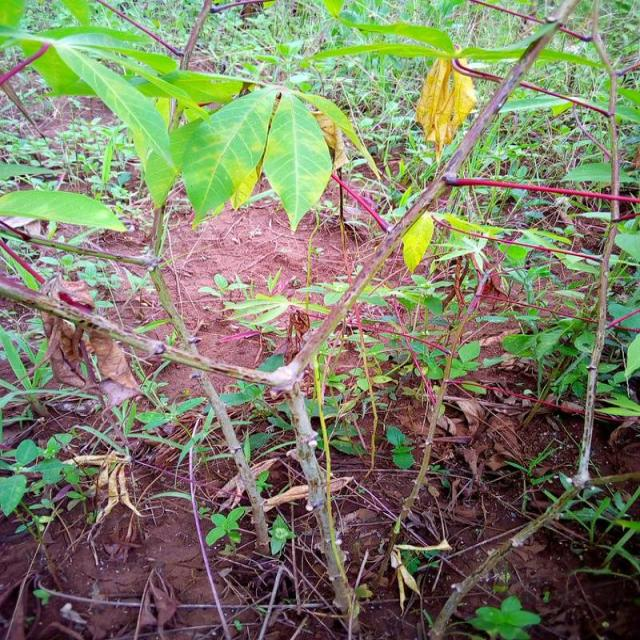cassava leaf: (180, 84, 278, 230), (262, 88, 332, 232), (0, 188, 127, 234), (400, 209, 434, 273)
